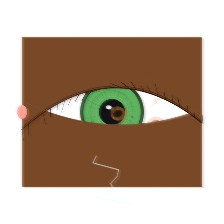foreign_body_visible: (138, 112, 174, 140)
